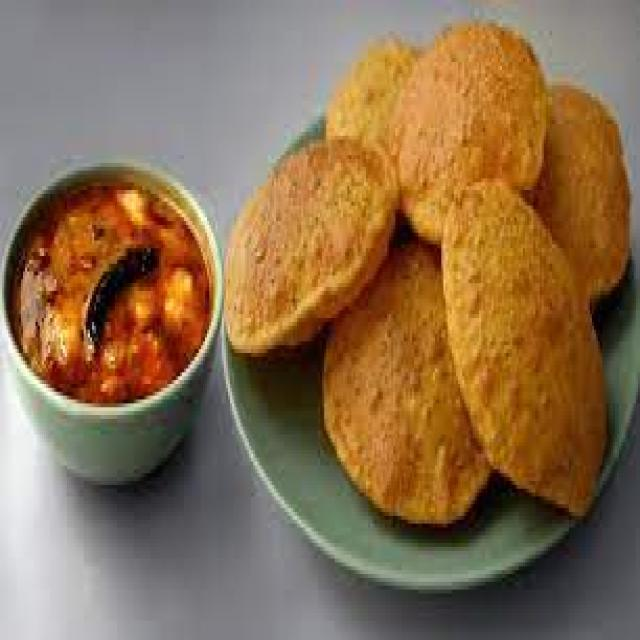CURRY: (7, 177, 211, 405)
POORI: (218, 24, 631, 529)
